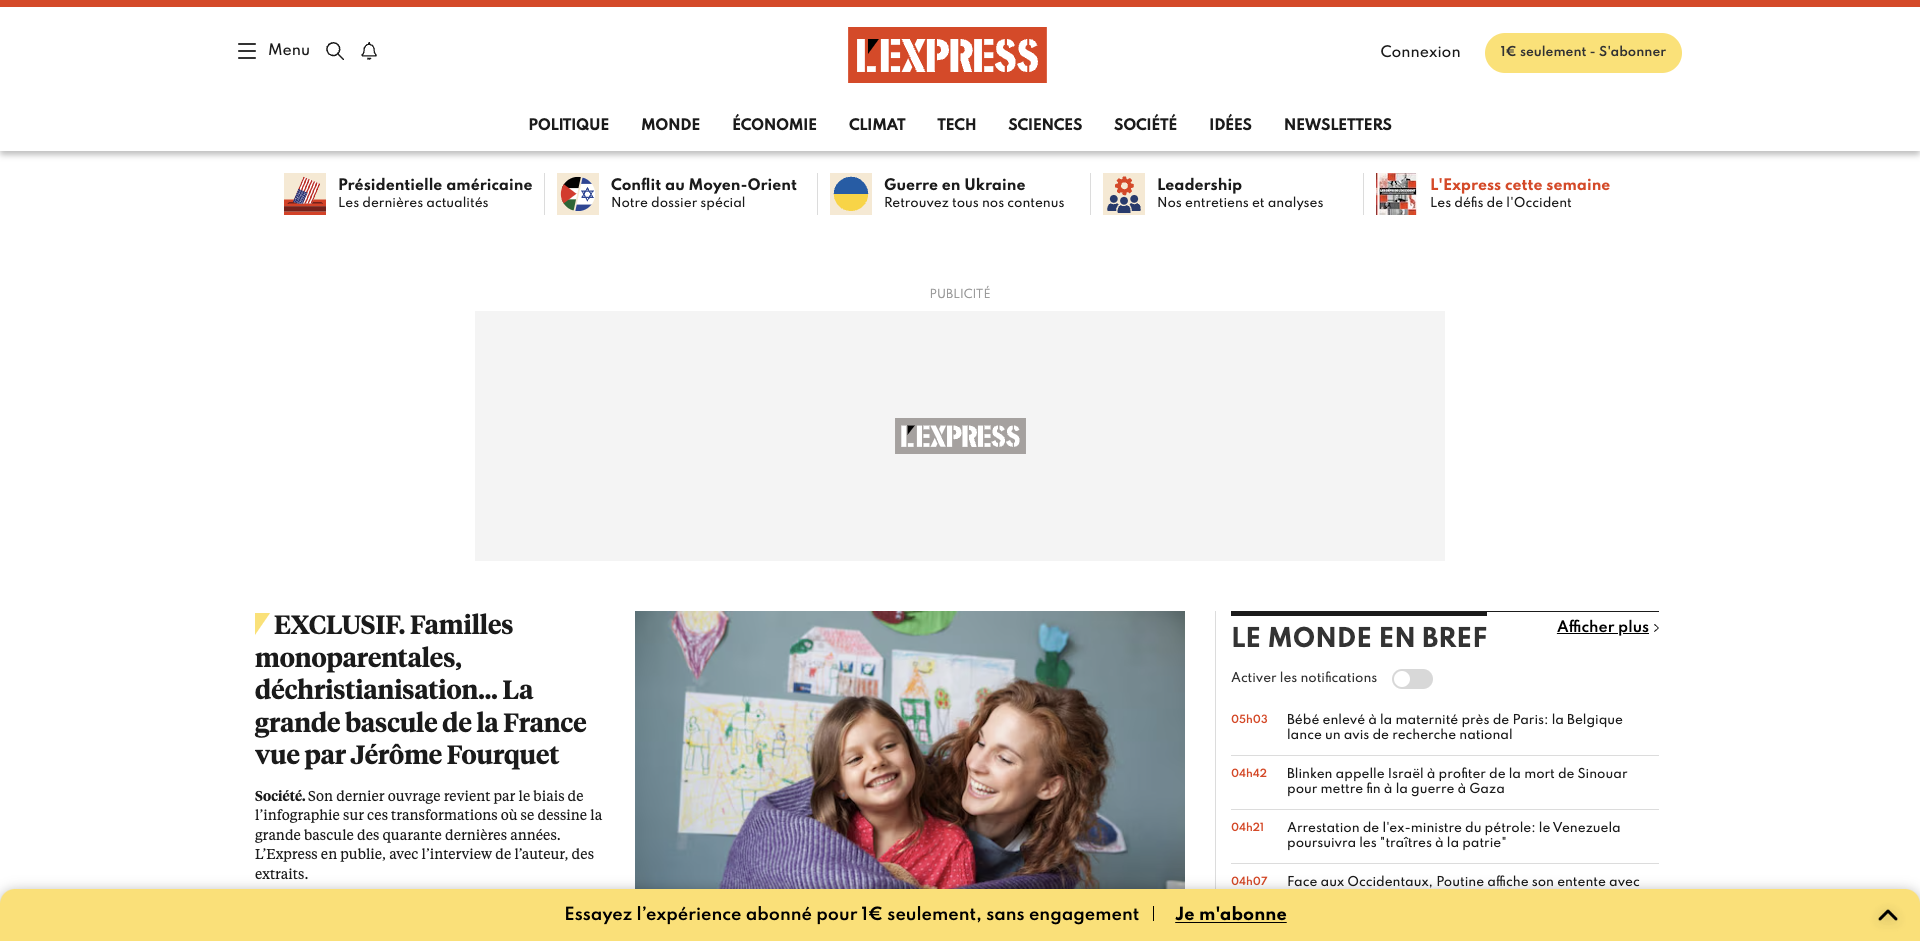button: (1484, 33, 1682, 74), (1501, 45, 1599, 61)
checkbox: (1396, 673, 1438, 686)
icon: (1649, 620, 1659, 636)
label: (1231, 673, 1378, 685), (324, 42, 347, 60)
link: (636, 611, 1185, 941), (255, 611, 605, 773), (564, 902, 1305, 928), (1287, 713, 1659, 744), (1287, 767, 1659, 798), (1287, 821, 1659, 852), (1287, 875, 1659, 905), (847, 27, 1047, 83), (338, 176, 544, 212), (611, 176, 817, 212), (884, 176, 1090, 212), (1157, 176, 1363, 212), (1430, 176, 1636, 212), (1287, 929, 1659, 941), (544, 173, 599, 214), (817, 173, 872, 214), (1090, 173, 1145, 214), (1363, 173, 1418, 214), (255, 934, 556, 941), (284, 173, 326, 214), (1556, 620, 1659, 636), (1283, 119, 1392, 134), (732, 119, 817, 134), (528, 119, 609, 134), (1008, 119, 1082, 134), (1380, 47, 1461, 60), (1114, 119, 1177, 134), (640, 119, 700, 134), (849, 119, 905, 134), (1209, 119, 1251, 134), (937, 119, 976, 134)
